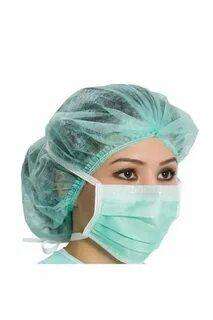hairnet: (14, 73, 202, 212)
mask: (79, 173, 203, 275)
